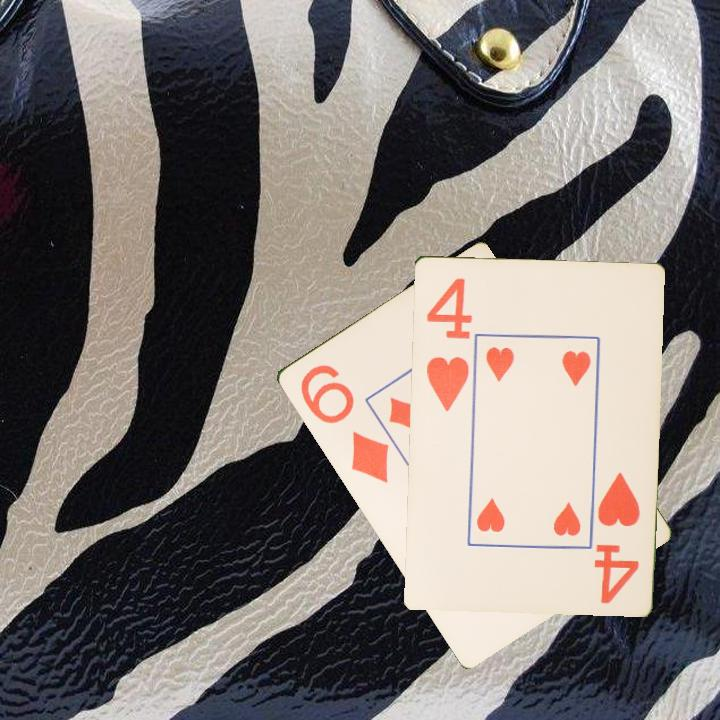4h: (422, 274, 474, 414), (592, 468, 642, 606)
6d: (296, 360, 392, 487)
